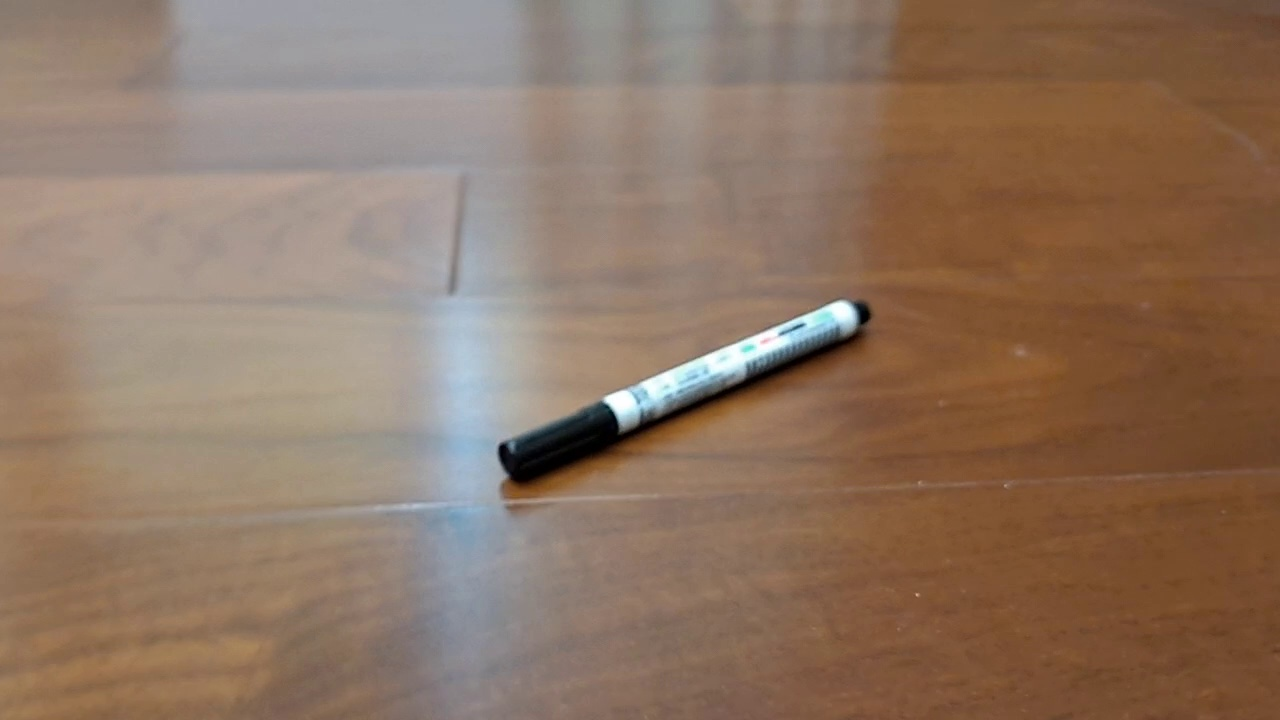pen: (498, 298, 872, 483)
